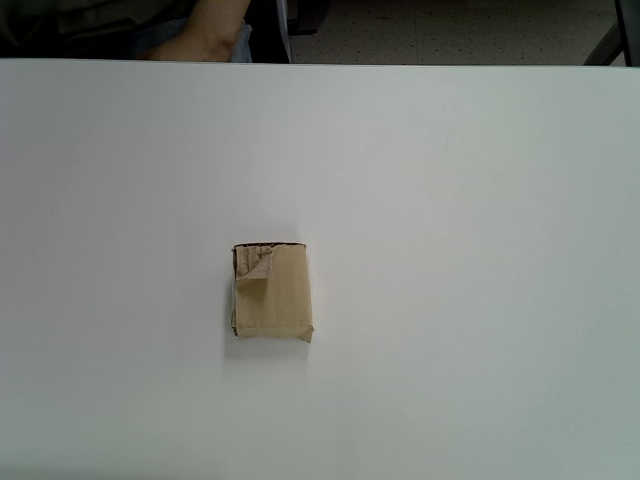defect: (231, 241, 315, 346)
